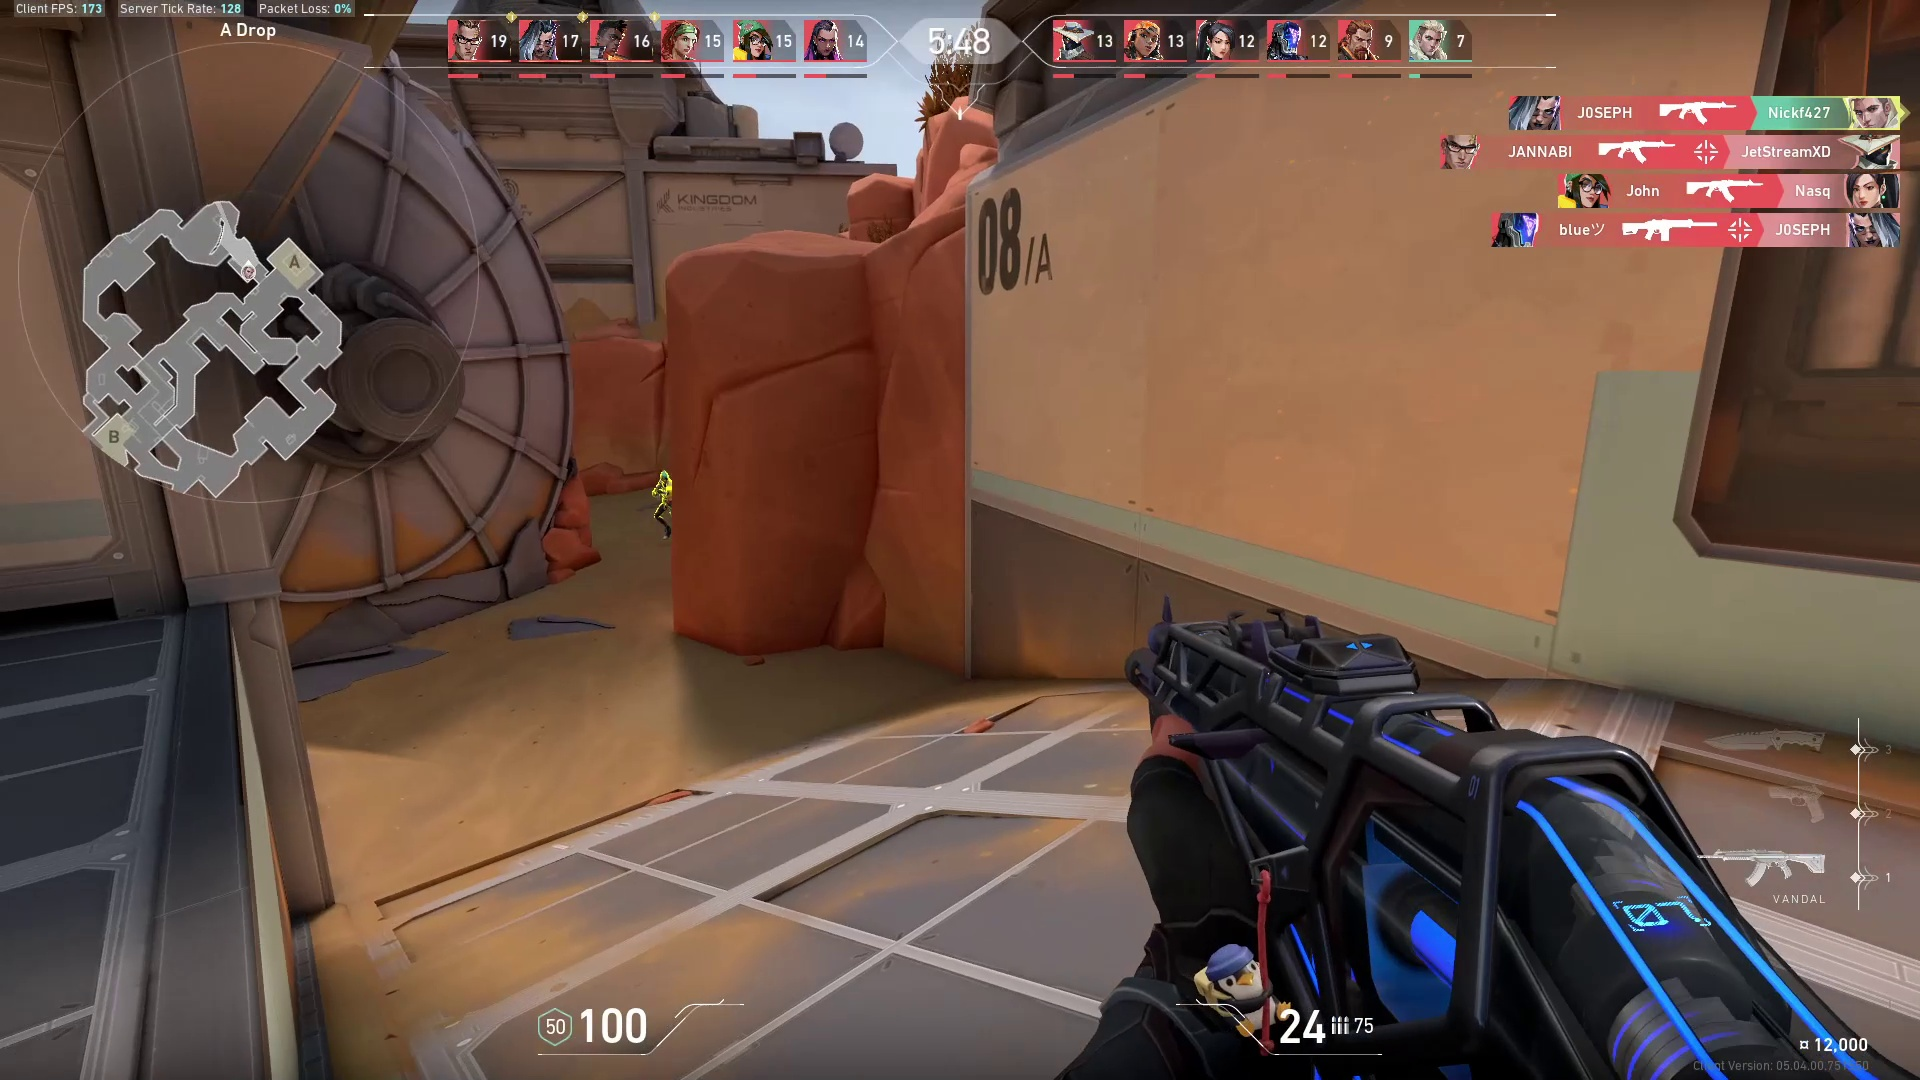enemy_body: (649, 483, 676, 541)
enemy_head: (657, 469, 671, 485)
